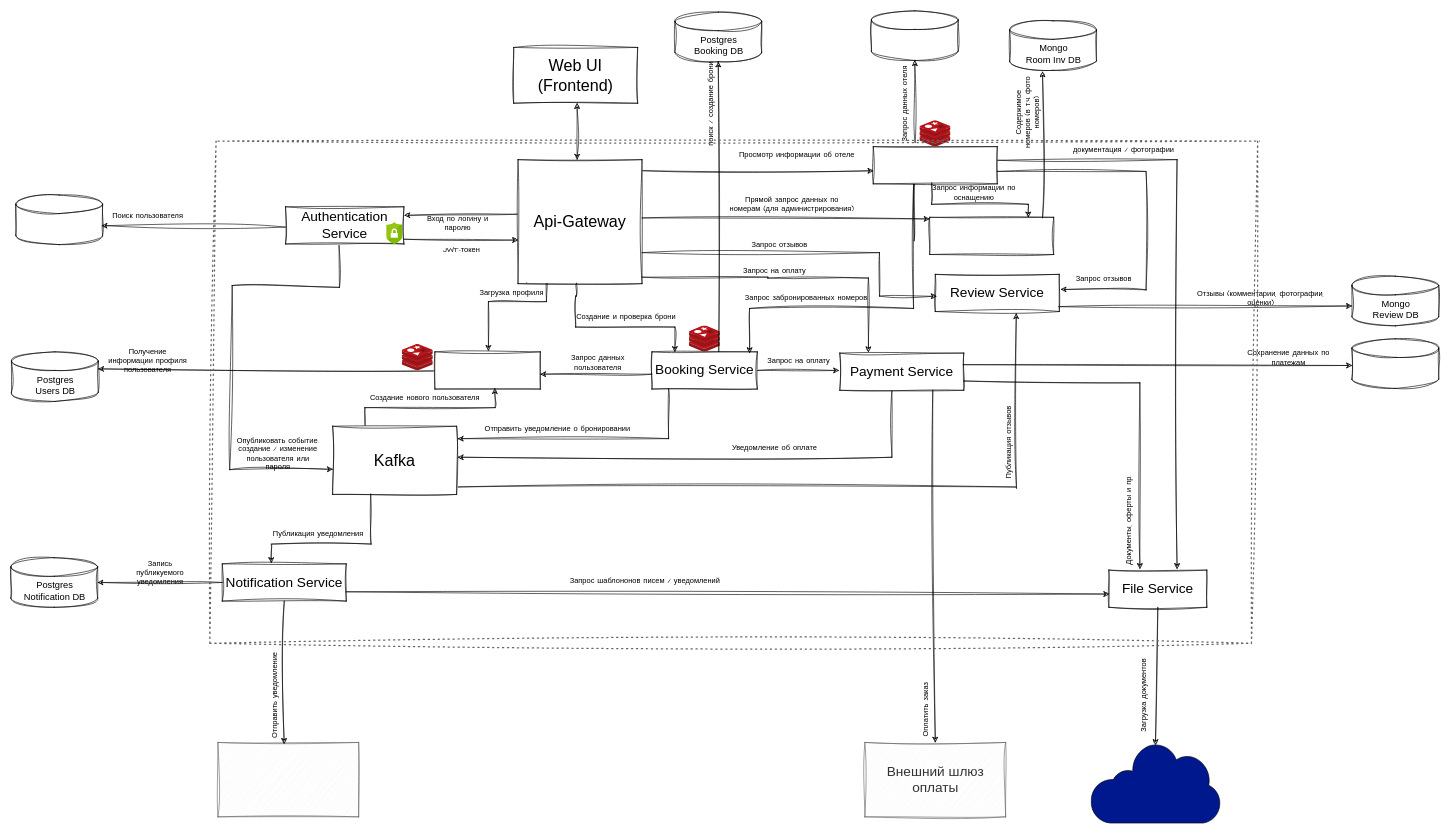
Some shapes in this 1450 by 834 pixel diagram are drawn without their labels. Here are the shapes that lost their labels. From the top down, the box of each, then its label:
(871, 10, 958, 60): Postgres Hotel DB
(873, 146, 997, 184): Hotel Service
(15, 194, 103, 245): Postgres Auth DB
(929, 217, 1054, 255): Room Inventory Service
(434, 351, 540, 389): User Profile Service
(1351, 338, 1439, 388): Postgres Payment DB
(217, 742, 359, 817): Внешняя система уведомлений
(1090, 742, 1220, 823): S3 Storage (MinIO)
